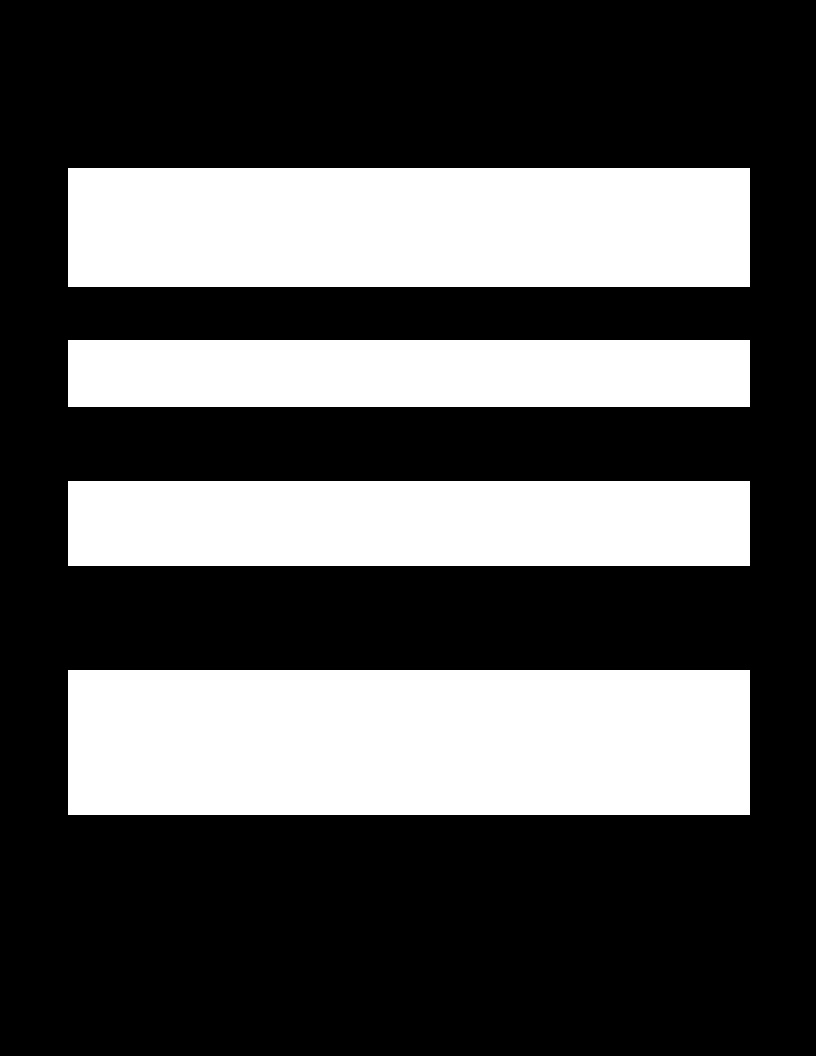table: (68, 670, 749, 814), (68, 168, 749, 286), (68, 481, 749, 565), (68, 340, 749, 406)
